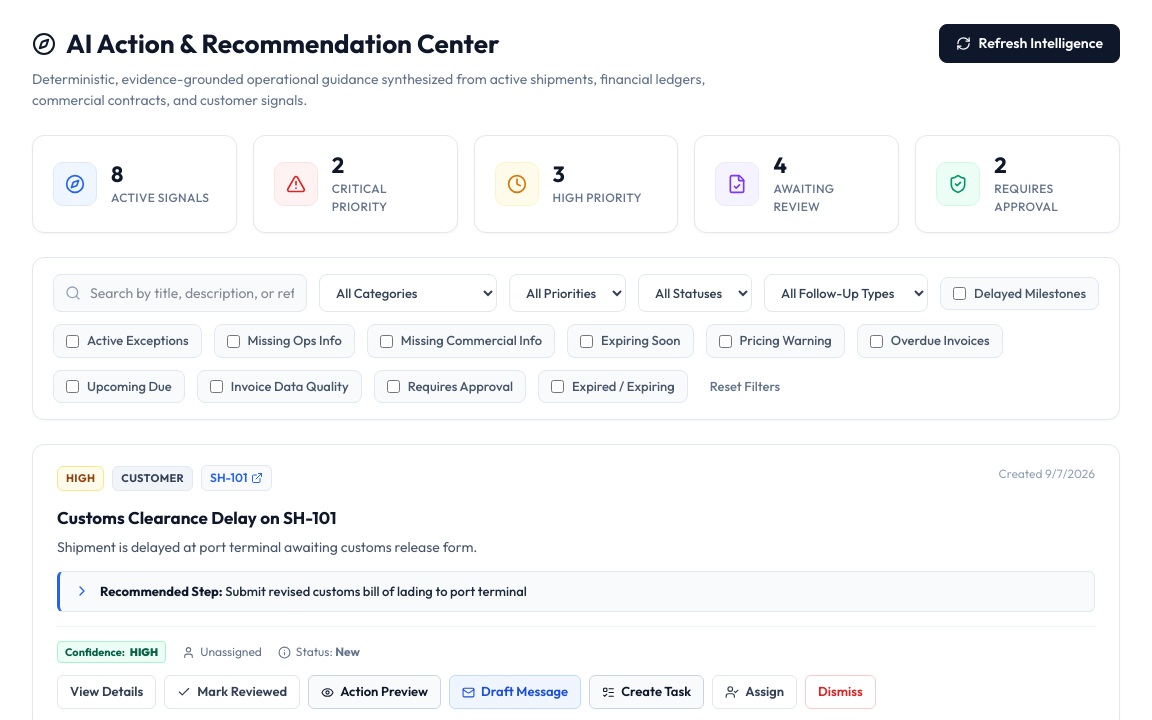
RecommendationCenterPage Component › renders Customer Follow-Up draft and task creation buttons and handles draft generation
Expected: the button "Create Task" is shown, [589,675,704,709]
# Explicitly click Draft Message to trigger generation
Click the button "Draft Message". click: point(515, 692)
box: [449,675,581,709]
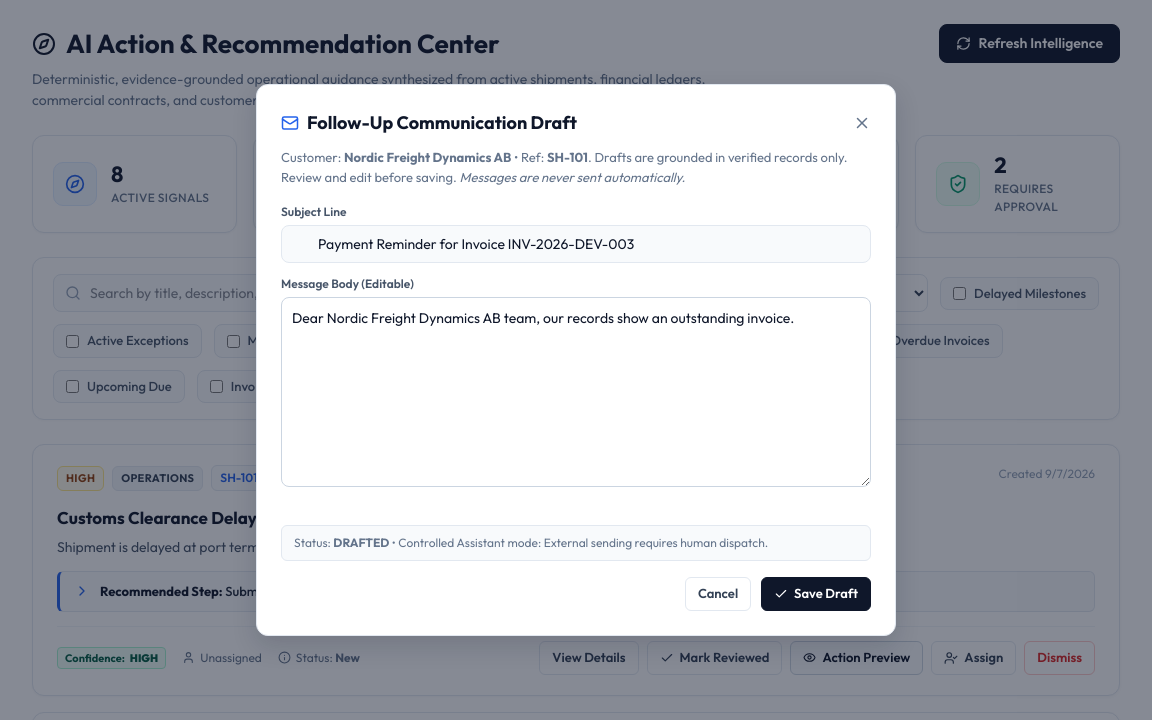
Result: the heading "Follow-Up Communication Draft" is shown at [307,109,577,136]
Result: the field showing "Payment Reminder for Invoice" is shown at [281,225,871,263]
